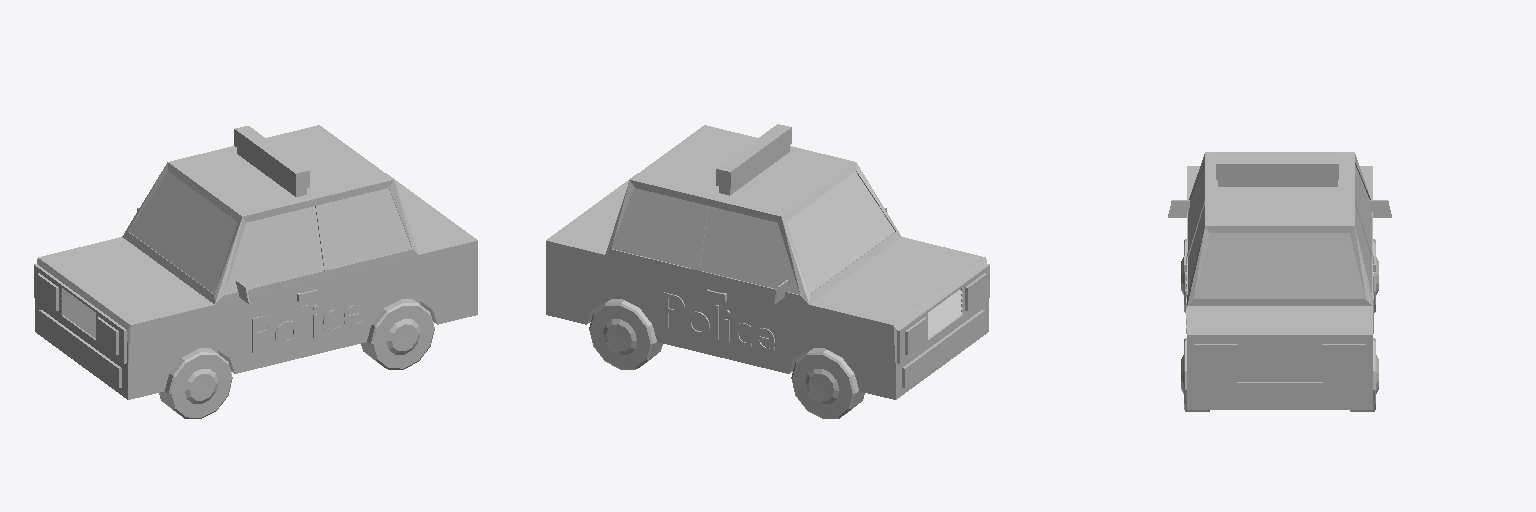
The model's file is carro5.obj.
3 renders of one model, left to right at view 1: azimuth 30°, elevation 25°; view 2: azimuth 150°, elevation 25°; view 3: azimuth 270°, elevation 25°, orthographic.
Parts seen in each view (by area): view 1: polySurface140; view 2: polySurface140; view 3: polySurface140.
Boxes of the visible parts, <box> form: polySurface140: <box>34,125,477,418</box>; polySurface140: <box>546,124,989,418</box>; polySurface140: <box>1168,152,1391,411</box>.
Size of the model in its own units: 3.35 by 1.85 by 1.81.